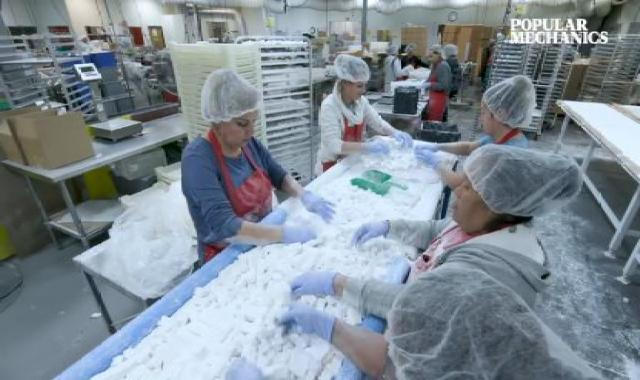hairnet: (385, 268, 613, 380), (446, 143, 584, 220), (198, 66, 267, 129), (481, 68, 541, 131), (324, 48, 376, 94)
